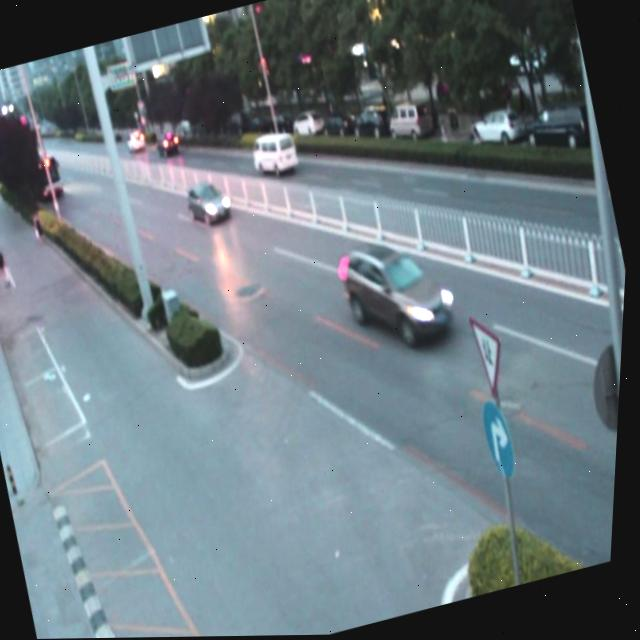car: (332, 222, 465, 362), (183, 175, 235, 230), (154, 125, 181, 155)
truck: (247, 124, 302, 182)
